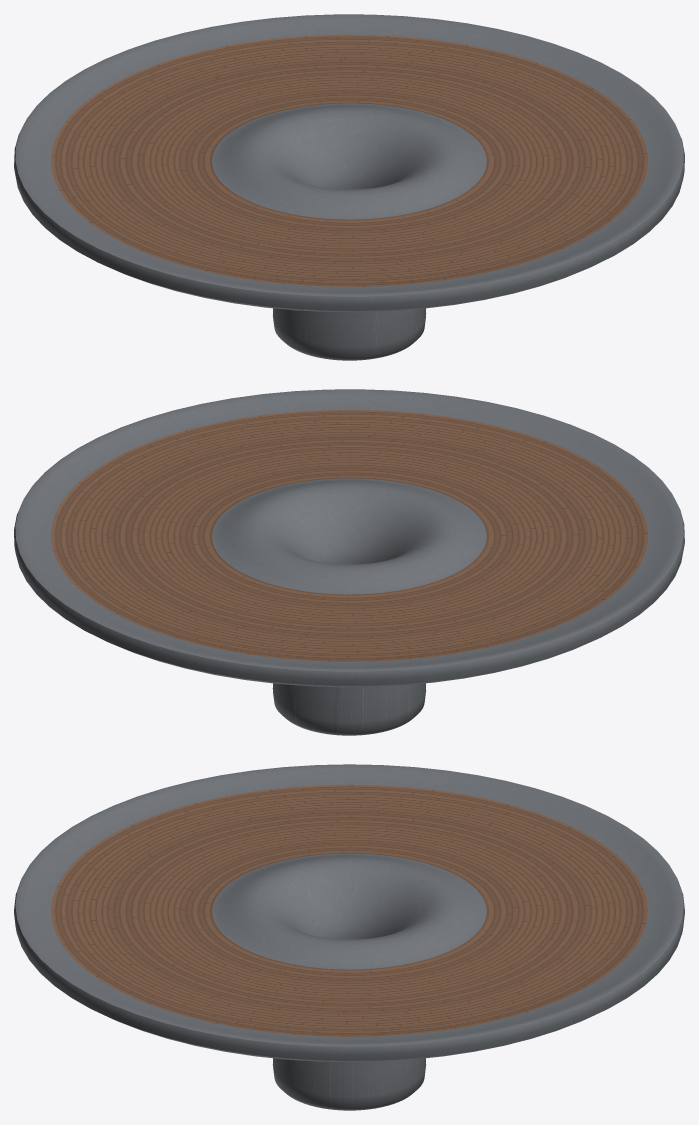
The model's file is lobby_platform.glb.
The picture shows the model from 3 angles, top to bottom: view 1: azimuth 30°, elevation 25°; view 2: azimuth 150°, elevation 25°; view 3: azimuth 270°, elevation 25°; orthographic projection.
Parts seen in each view (by area): view 1: cloud_platform; view 2: cloud_platform; view 3: cloud_platform.
Boxes of the visible parts, box(x1,y1,x2,y2) form: cloud_platform: box(14, 14, 684, 360); cloud_platform: box(14, 389, 684, 735); cloud_platform: box(14, 764, 684, 1110).
Size of what is drawn, in the model's own units: 31.82 by 9.56 by 31.82.
2 materials, 2 textured.
